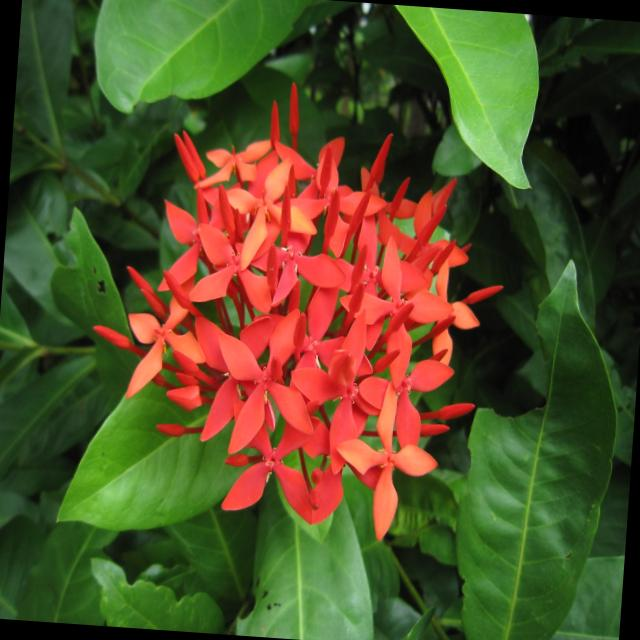Chinese-Ixora: (70, 78, 510, 546)
